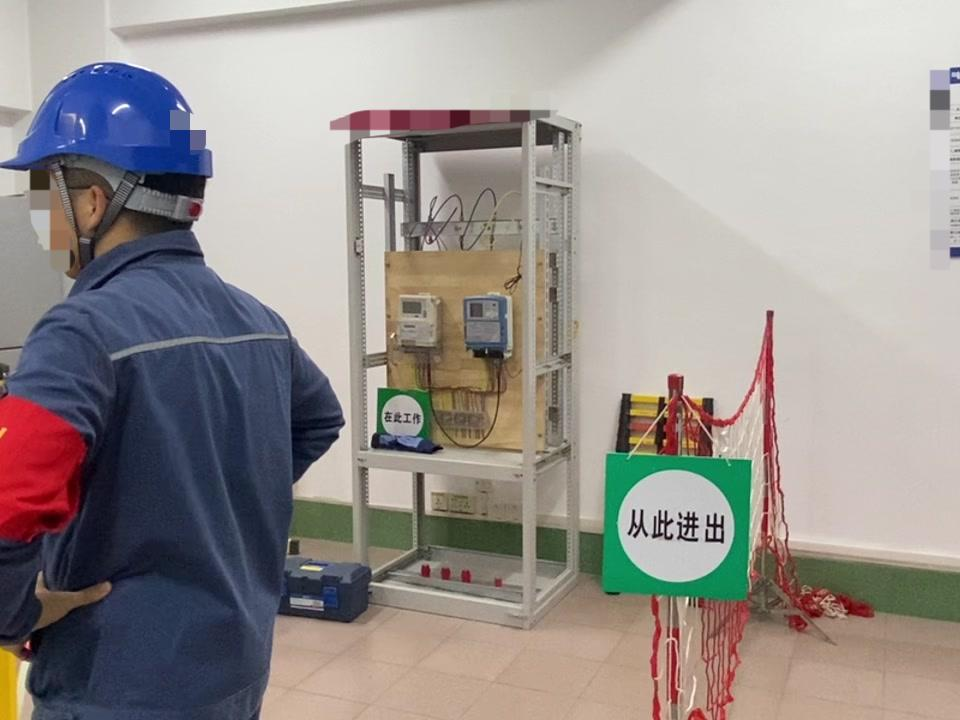halt: (3, 60, 218, 271)
inear: (59, 166, 134, 244)
